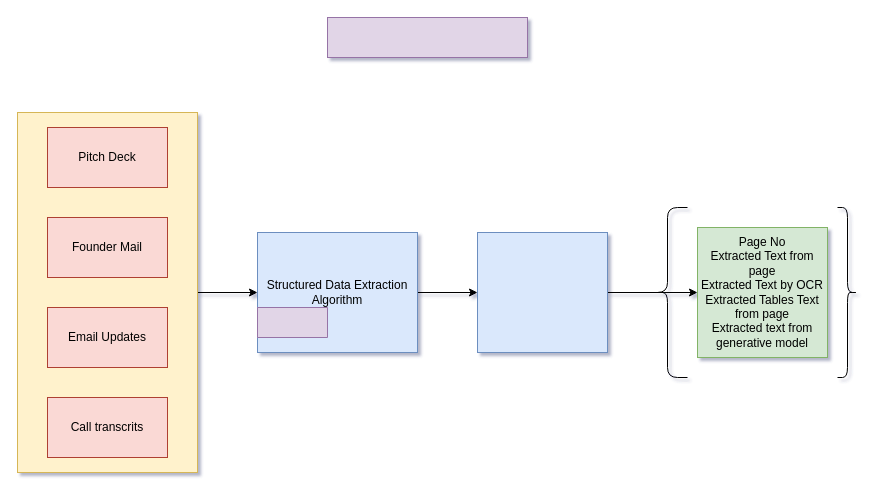
The diagram is 881 pixels wide and 496 high, and some of its shapes have lost their labels. Here are the shapes that lost their labels. From the top down, the centre of each, then its label:
point 427,37: Data Extraction Pipeline
point 542,292: Generative Model
point 292,322: Rules
